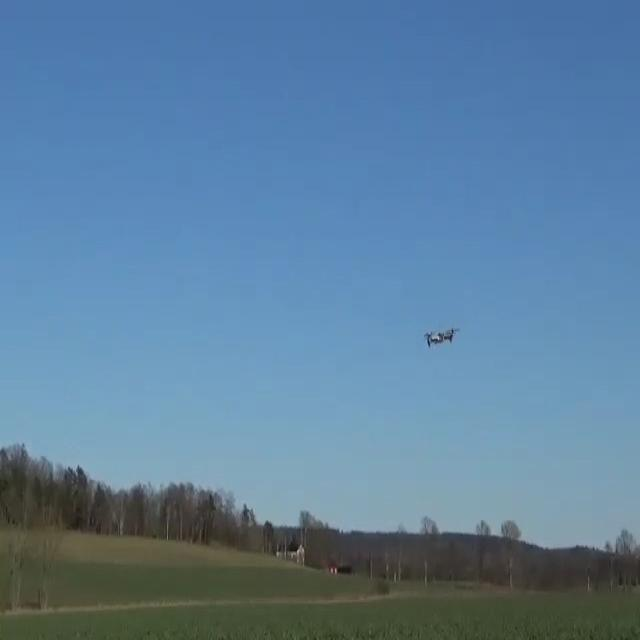drone: (425, 326, 459, 348)
